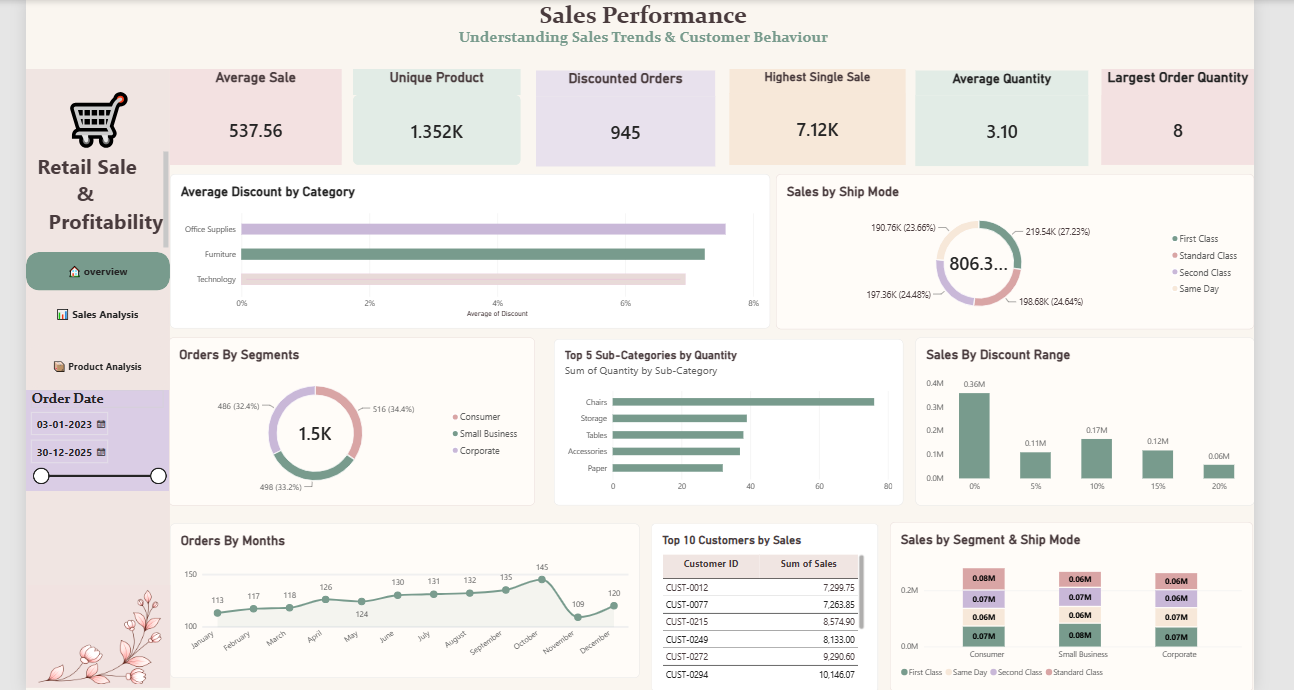

The dashboard page shown, as its layout file describes it:
{"tool":"powerbi","page":{"name":"Sales Analysis","canvas":[1920,1080],"ordinal":1},"visuals":[{"type":"textbox","title":"Sales Performance","box":[9.4,0,1910.8,42.2],"z":0},{"type":"textbox","title":"Understanding Sales Trends & Customer Behaviour","box":[9.4,42.2,1910.8,112.5],"z":1000},{"type":"cardVisual","title":"Average Sale","fields":{"Data":["Avg(Cleaned_Retail_Sales_PowerBI.Sales)"]},"box":[225.5,108.5,268,150],"z":2000},{"type":"cardVisual","title":"Unique Product","fields":{"Data":["Count(Cleaned_Retail_Sales_PowerBI.Profit)"]},"box":[510,107.5,262,150],"z":3000},{"type":"cardVisual","title":"Discounted Orders","fields":{"Data":["Count(Cleaned_Retail_Sales_PowerBI.Order ID)"]},"box":[797.5,110,280,150],"z":4000},{"type":"cardVisual","title":"Highest Single Sale","fields":{"Data":["Max(Cleaned_Retail_Sales_PowerBI.Sales)"]},"box":[1100,107.5,275,150],"z":5000},{"type":"cardVisual","title":"Average Quantity","fields":{"Data":["Avg(Cleaned_Retail_Sales_PowerBI.Quantity)"]},"box":[1390,110,270,150],"z":6000},{"type":"cardVisual","title":"Largest Order Quantity","fields":{"Data":["Max(Cleaned_Retail_Sales_PowerBI.Quantity)"]},"box":[1680,107.5,239,150],"z":7000},{"type":"lineChart","title":"Orders By Months","fields":{"Category":["Cleaned_Retail_Sales_PowerBI.Order Date.Variation.Date Hierarchy.Year","Cleaned_Retail_Sales_PowerBI.Order Date.Variation.Date Hierarchy.Month"],"Y":["Count(Cleaned_Retail_Sales_PowerBI.Order ID)"]},"box":[225.1,818.2,733.8,241.5],"z":8000},{"type":"donutChart","title":"Sales by Ship Mode","fields":{"Category":["Cleaned_Retail_Sales_PowerBI.Ship Mode"],"Y":["Sum(Cleaned_Retail_Sales_PowerBI.Sales)"]},"box":[1172.5,272.5,747.5,242.5],"z":9000},{"type":"clusteredBarChart","title":"Average Discount by Category","fields":{"Category":["Cleaned_Retail_Sales_PowerBI.Category"],"Y":["Avg(Cleaned_Retail_Sales_PowerBI.Discount)"]},"box":[225.1,272,937.8,241.5],"z":10000},{"type":"donutChart","title":"Orders By Segments","fields":{"Category":["Cleaned_Retail_Sales_PowerBI.Segment"],"Y":["Count(Cleaned_Retail_Sales_PowerBI.Order ID)"]},"box":[222.5,527.5,572.5,262.5],"z":11000},{"type":"columnChart","title":"Sales by Segment & Ship Mode","fields":{"Category":["Cleaned_Retail_Sales_PowerBI.Segment"],"Series":["Cleaned_Retail_Sales_PowerBI.Ship Mode"],"Y":["Sum(Cleaned_Retail_Sales_PowerBI.Sales)"]},"box":[1350.4,815.9,567.5,265],"z":12000},{"type":"tableEx","title":"Top 10 Customers by Sales","fields":{"Values":["Cleaned_Retail_Sales_PowerBI.Customer ID","Sum(Cleaned_Retail_Sales_PowerBI.Sales)"]},"box":[977.6,818.2,354,262.6],"z":13000},{"type":"clusteredColumnChart","title":"Sales By Discount Range","fields":{"Category":["Cleaned_Retail_Sales_PowerBI.Discount"],"Y":["Sum(Cleaned_Retail_Sales_PowerBI.Sales)"]},"box":[1390.3,527.5,529.9,262.6],"z":14000},{"type":"clusteredBarChart","title":"Top 5 Sub-Categories by Quantity","fields":{"Category":["Cleaned_Retail_Sales_PowerBI.Sub-Category"],"Y":["Sum(Cleaned_Retail_Sales_PowerBI.Quantity)"]},"box":[825.3,529.9,546.3,260.2],"z":21000},{"type":"shape","box":[0,107.5,225,967.5],"z":22000},{"type":"shape","box":[32.5,107.5,162.5,147.5],"z":23000},{"type":"textbox","box":[0,237.5,222.5,157.5],"z":24000},{"type":"actionButton","box":[0,395,225,60],"z":25000},{"type":"actionButton","box":[0,455,222.5,72.5],"z":27000},{"type":"actionButton","box":[0,540,222.5,67.5],"z":28000},{"type":"image","box":[2.6,915.4,223.1,160.3],"z":29000},{"type":"slicer","fields":{"Values":["Cleaned_Retail_Sales_PowerBI.Order Date"]},"box":[0,609.6,222.7,157],"z":29001}]}

Visuals, with their boxes on the page's 1920x1080 design canvas (x1, y1, x2, y2). These are canvas units, not pixel positions in the 1294x690 screenshot, which may show the page scaled, cropped or inside an application window:
"Sales Performance" textbox: <region>9, 0, 1920, 42</region>
"Understanding Sales Trends & Customer Behaviour" textbox: <region>9, 42, 1920, 155</region>
"Average Sale" cardVisual: <region>226, 108, 494, 258</region>
"Unique Product" cardVisual: <region>510, 108, 772, 258</region>
"Discounted Orders" cardVisual: <region>798, 110, 1078, 260</region>
"Highest Single Sale" cardVisual: <region>1100, 108, 1375, 258</region>
"Average Quantity" cardVisual: <region>1390, 110, 1660, 260</region>
"Largest Order Quantity" cardVisual: <region>1680, 108, 1919, 258</region>
"Orders By Months" lineChart: <region>225, 818, 959, 1060</region>
"Sales by Ship Mode" donutChart: <region>1172, 272, 1920, 515</region>
"Average Discount by Category" clusteredBarChart: <region>225, 272, 1163, 514</region>
"Orders By Segments" donutChart: <region>222, 528, 795, 790</region>
"Sales by Segment & Ship Mode" columnChart: <region>1350, 816, 1918, 1081</region>
"Top 10 Customers by Sales" tableEx: <region>978, 818, 1332, 1081</region>
"Sales By Discount Range" clusteredColumnChart: <region>1390, 528, 1920, 790</region>
"Top 5 Sub-Categories by Quantity" clusteredBarChart: <region>825, 530, 1372, 790</region>
shape: <region>0, 108, 225, 1075</region>
shape: <region>32, 108, 195, 255</region>
textbox: <region>0, 238, 222, 395</region>
actionButton: <region>0, 395, 225, 455</region>
actionButton: <region>0, 455, 222, 528</region>
actionButton: <region>0, 540, 222, 608</region>
image: <region>3, 915, 226, 1076</region>
slicer - Cleaned_Retail_Sales_PowerBI.Order Date: <region>0, 610, 223, 767</region>
